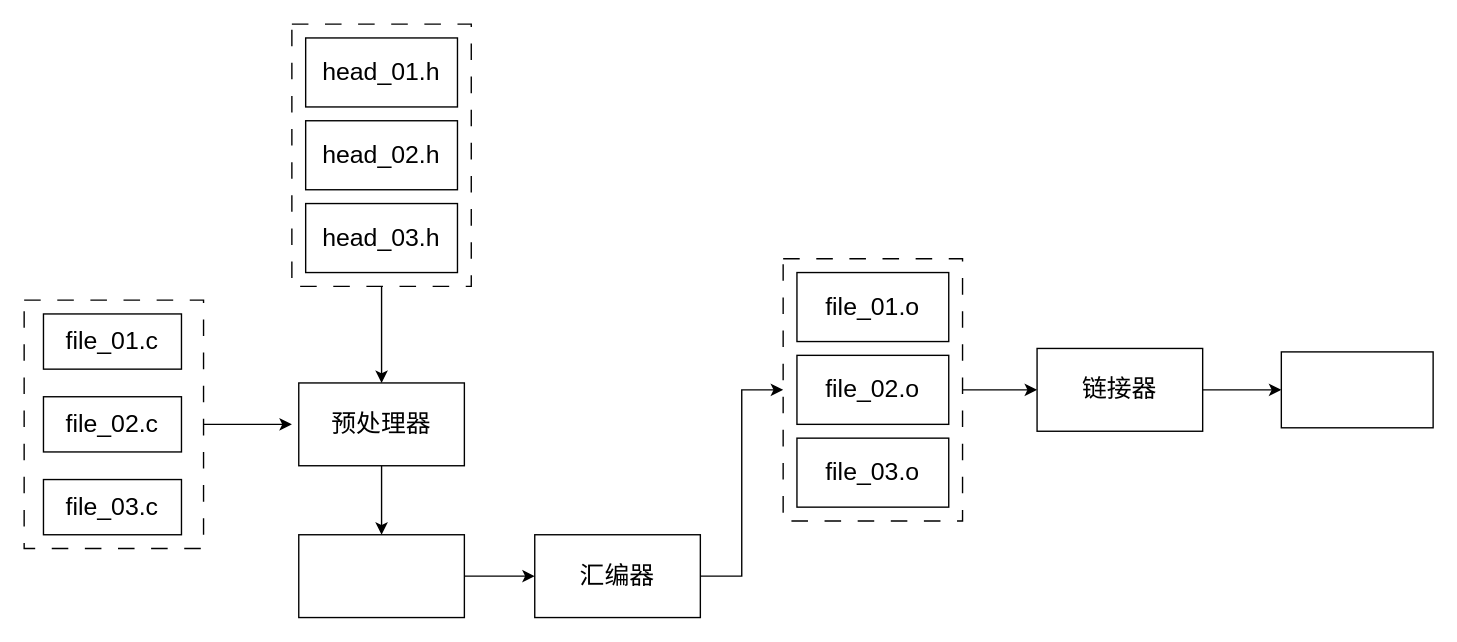
This 1457x642 diagram has some shape labels left out. Here are the shapes that lost their labels. From the top down, the centre of each, then its label:
At point 1356,389: "a.out".
At point 380,575: "编译器".
